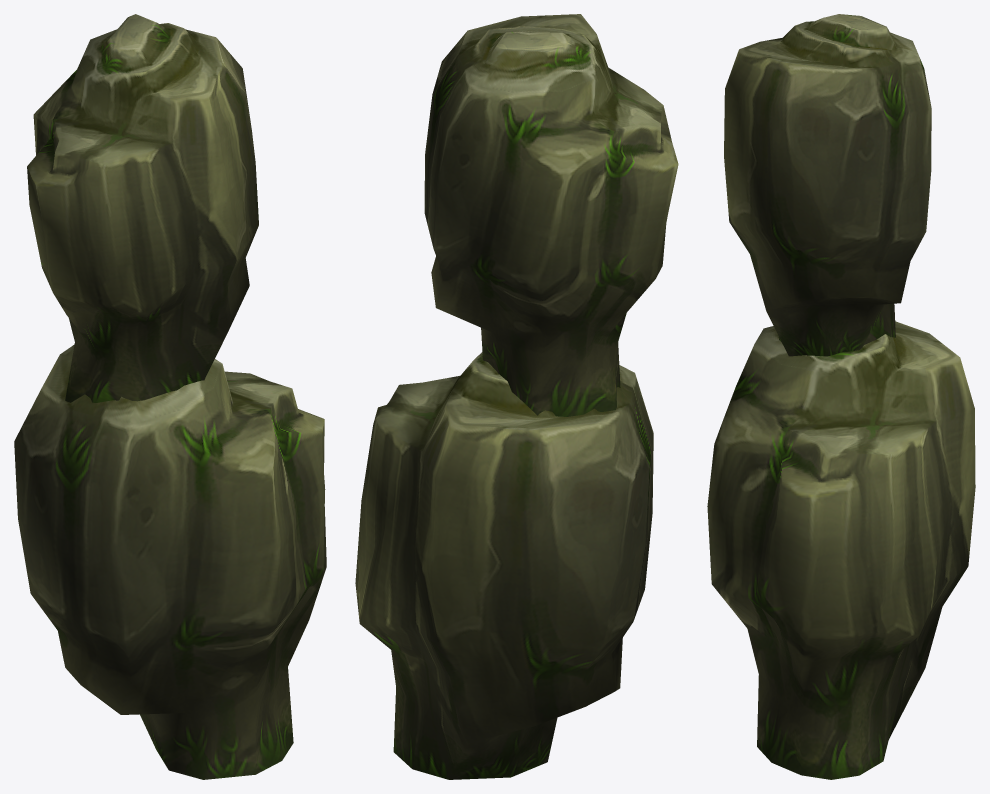
Rendered from Rock_Formation_02_05.fbx.
3 views of the same model, side by side, from view 1: azimuth 30°, elevation 25°; view 2: azimuth 150°, elevation 25°; view 3: azimuth 270°, elevation 25° (orthographic). The views are drawn at different scales.
Visible parts, largest first — view 1: Rock_Formation_02_05; view 2: Rock_Formation_02_05; view 3: Rock_Formation_02_05.
Part boxes in pixels (bbox=[...]): Rock_Formation_02_05: bbox=[14, 14, 326, 779]; Rock_Formation_02_05: bbox=[355, 14, 678, 779]; Rock_Formation_02_05: bbox=[707, 14, 975, 779].
Size of the model in its own units: 97.98 by 234 by 81.87.
